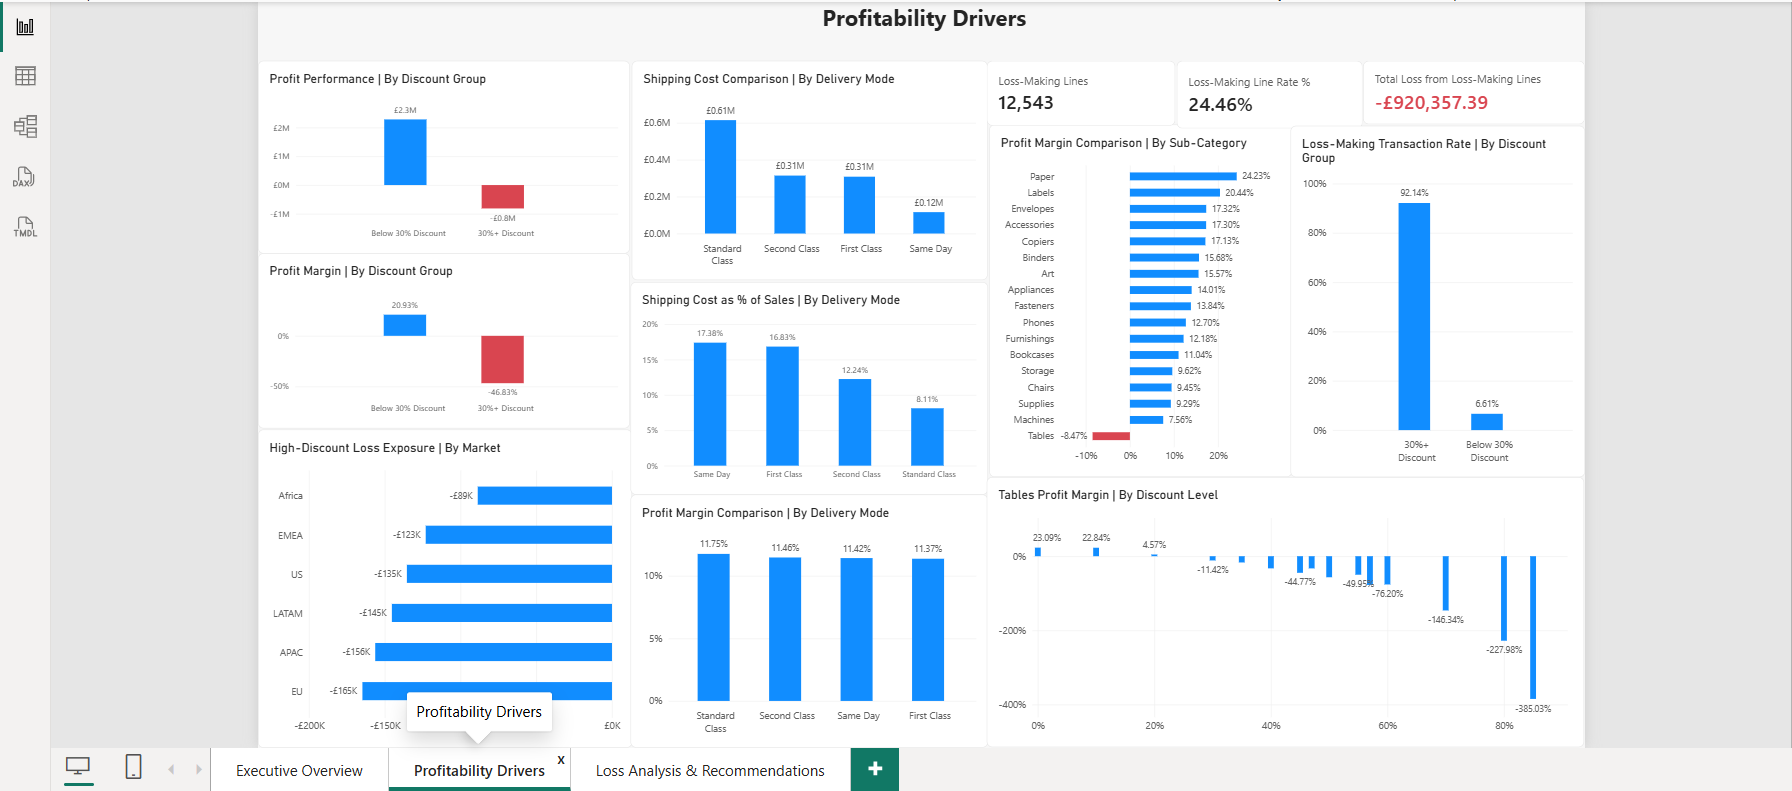

Layout of this report page (visuals, bound fields, positions):
{"tool":"powerbi","page":{"name":"Profitability Drivers","canvas":[1920,1080],"ordinal":1},"visuals":[{"type":"textbox","box":[0,0,1920.4,84.4],"z":0},{"type":"clusteredColumnChart","title":"Profit Performance | By Discount Group","fields":{"Category":["MegaStore Sales.Discount Group"],"Y":["MegaStore Sales.Total Profit"]},"box":[0,84.6,538.5,279.5],"z":1},{"type":"clusteredColumnChart","title":"Profit Margin | By Discount Group","fields":{"Category":["MegaStore Sales.Discount Group"],"Y":["MegaStore Sales.Profit Margin %"]},"box":[0,364.1,538.5,253.8],"z":2},{"type":"clusteredBarChart","title":"High-Discount Loss Exposure | By Market","fields":{"Category":["MegaStore Sales.market"],"Y":["MegaStore Sales.Total Profit"]},"box":[0,618.8,541.7,460.4],"z":3},{"type":"clusteredColumnChart","title":"Shipping Cost Comparison | By Delivery Mode","fields":{"Category":["MegaStore Sales.ship_mode"],"Y":["MegaStore Sales.Total Shipping Cost"]},"box":[541,84.6,515.4,317.9],"z":4},{"type":"clusteredColumnChart","title":"Shipping Cost as % of Sales | By Delivery Mode","fields":{"Category":["MegaStore Sales.ship_mode"],"Y":["MegaStore Sales.Shipping Cost % of Sales"]},"box":[538.5,405.1,517.9,307.7],"z":5},{"type":"clusteredColumnChart","title":"Profit Margin Comparison | By Delivery Mode","fields":{"Category":["MegaStore Sales.ship_mode"],"Y":["MegaStore Sales.Profit Margin %"]},"box":[538.5,712.8,517.9,366.7],"z":6},{"type":"clusteredBarChart","title":"Profit Margin Comparison | By Sub-Category","fields":{"Category":["MegaStore Sales.sub_category"],"Y":["MegaStore Sales.Profit Margin %"]},"box":[1058,177,438.4,510.5],"z":7},{"type":"clusteredColumnChart","title":"Tables Profit Margin | By Discount Level","fields":{"Category":["MegaStore Sales.discount"],"Y":["MegaStore Sales.Profit Margin %"]},"box":[1055.9,687.5,864.5,391.1],"z":8},{"type":"cardVisual","fields":{"Data":["MegaStore Sales.Loss-Making Lines"]},"box":[1055.9,84.4,273.8,94.7],"z":9},{"type":"cardVisual","fields":{"Data":["MegaStore Sales.Loss-Making Line Rate %"]},"box":[1329.7,84.4,269.6,98.8],"z":10},{"type":"cardVisual","fields":{"Data":["MegaStore Sales.Total Loss from Loss-Making Lines"]},"box":[1599.3,84.4,321.1,92.6],"z":11},{"type":"clusteredColumnChart","title":"Loss-Making Transaction Rate | By Discount Group","fields":{"Category":["MegaStore Sales.Discount Group"],"Y":["MegaStore Sales.Loss-Making Line Rate %"]},"box":[1494.3,179.1,426.1,508.4],"z":12}]}

Visuals, with their boxes on the page's 1920x1080 design canvas (x1, y1, x2, y2). These are canvas units, not pixel positions in the 1792x791 screenshot, which may show the page scaled, cropped or inside an application window:
textbox: 0,0,1920,84
"Profit Performance | By Discount Group" clusteredColumnChart: 0,85,538,364
"Profit Margin | By Discount Group" clusteredColumnChart: 0,364,538,618
"High-Discount Loss Exposure | By Market" clusteredBarChart: 0,619,542,1079
"Shipping Cost Comparison | By Delivery Mode" clusteredColumnChart: 541,85,1056,402
"Shipping Cost as % of Sales | By Delivery Mode" clusteredColumnChart: 538,405,1056,713
"Profit Margin Comparison | By Delivery Mode" clusteredColumnChart: 538,713,1056,1080
"Profit Margin Comparison | By Sub-Category" clusteredBarChart: 1058,177,1496,688
"Tables Profit Margin | By Discount Level" clusteredColumnChart: 1056,688,1920,1079
cardVisual - MegaStore Sales.Loss-Making Lines: 1056,84,1330,179
cardVisual - MegaStore Sales.Loss-Making Line Rate %: 1330,84,1599,183
cardVisual - MegaStore Sales.Total Loss from Loss-Making Lines: 1599,84,1920,177
"Loss-Making Transaction Rate | By Discount Group" clusteredColumnChart: 1494,179,1920,688
